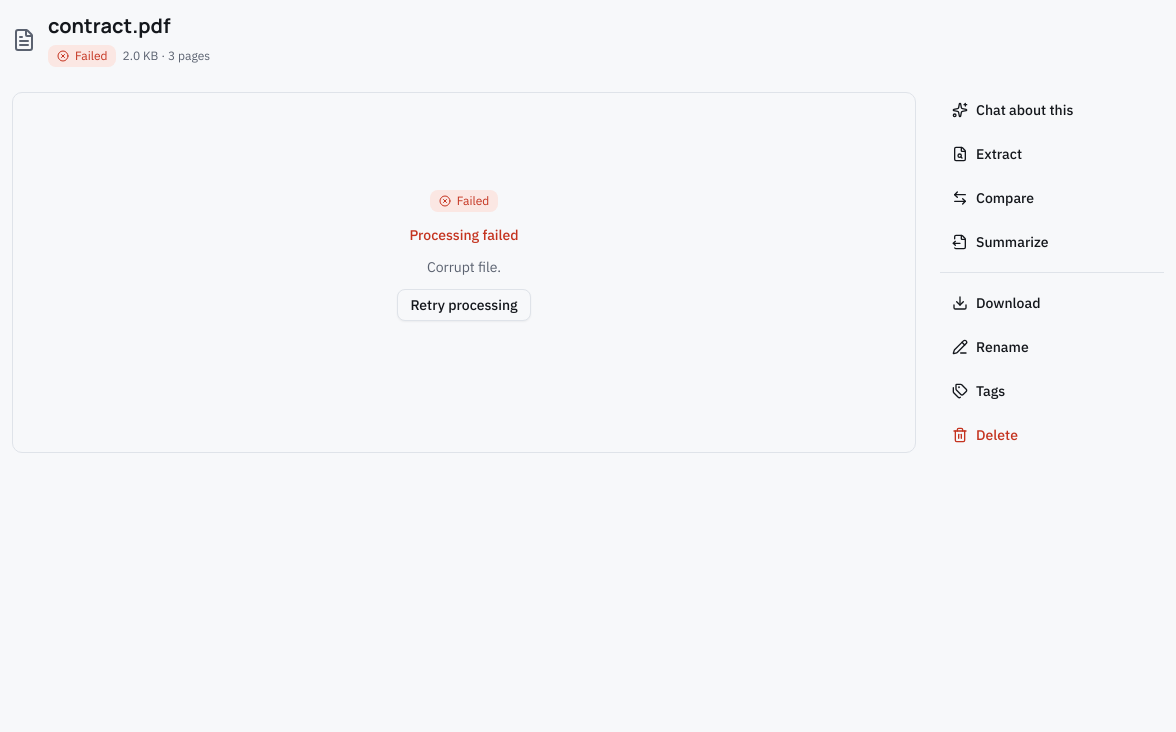
DocumentViewer — FR-DOC-003, FR-DOC-008, FR-PROC-005 › surfaces a connectivity-safe error toast when reprocessing itself fails
Click the button "Retry processing" at (464, 305), box [397, 289, 531, 321]
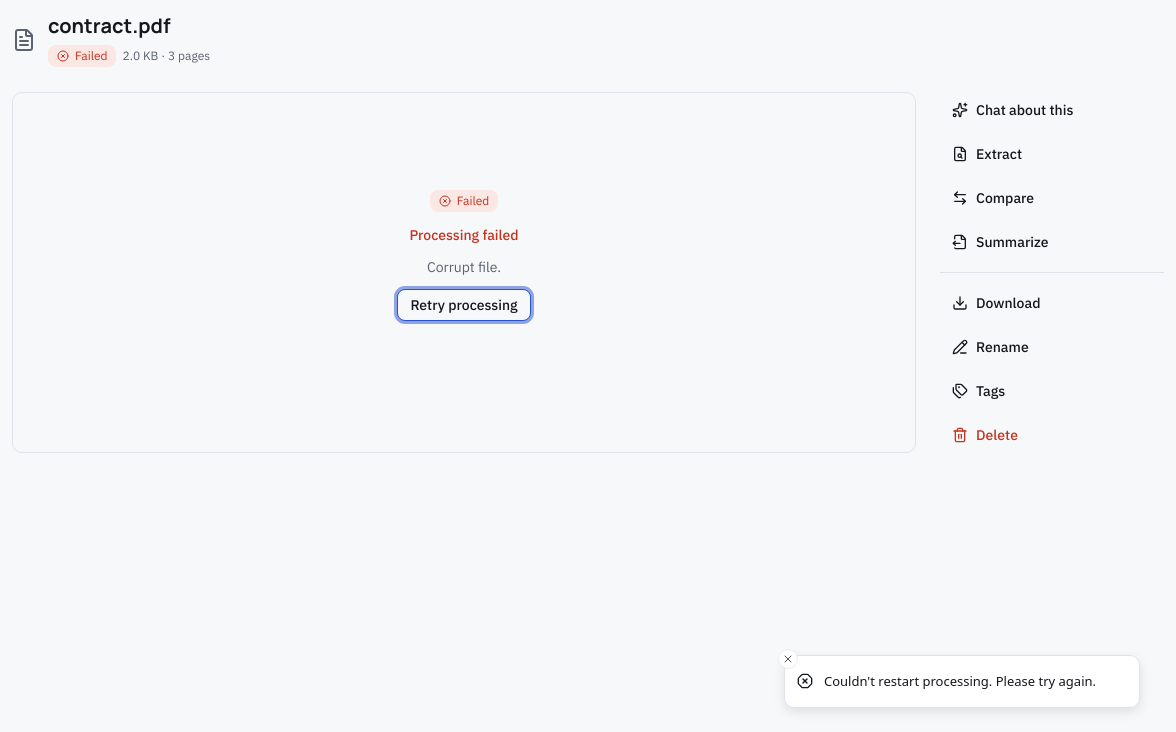
Expected: the text "Couldn't restart processing. Please try again." is shown, [824, 672, 1096, 691]
